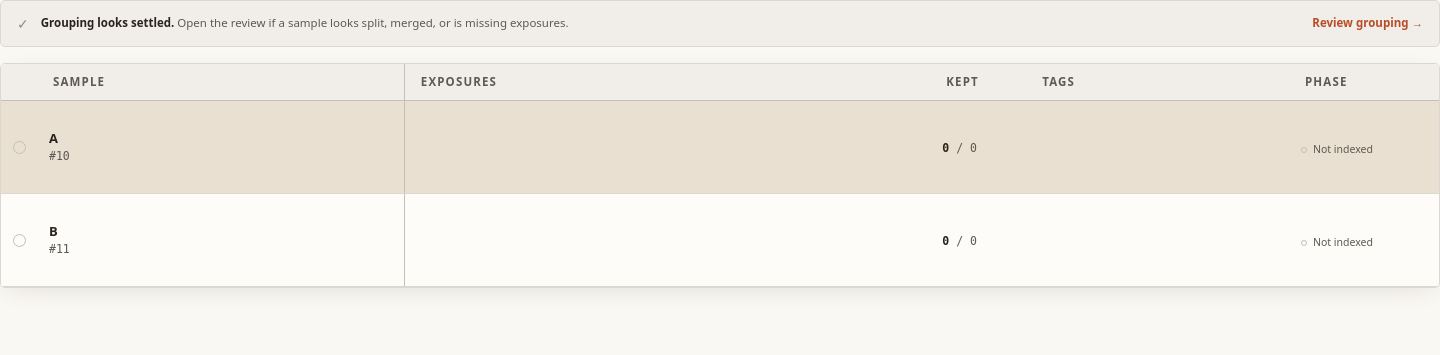
Test: ExperimentCorpusPage — sample-grain picker (dock compose segment) › Clear resets the sample selection and removes the compose segment
Click the checkbox named "Select sample" next to "#10" at (19, 147), box [12,141,26,154]
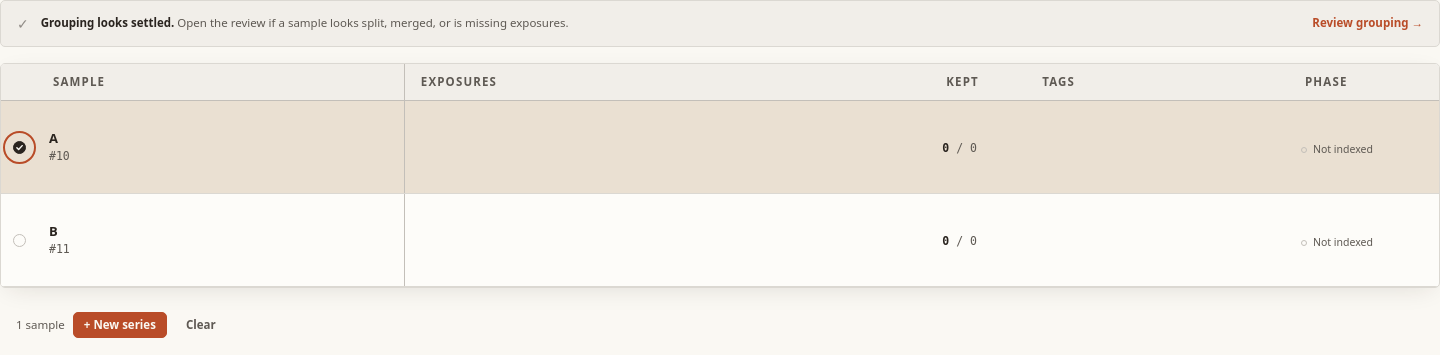
Click the button "Clear" at (201, 325), box [175,312,227,338]
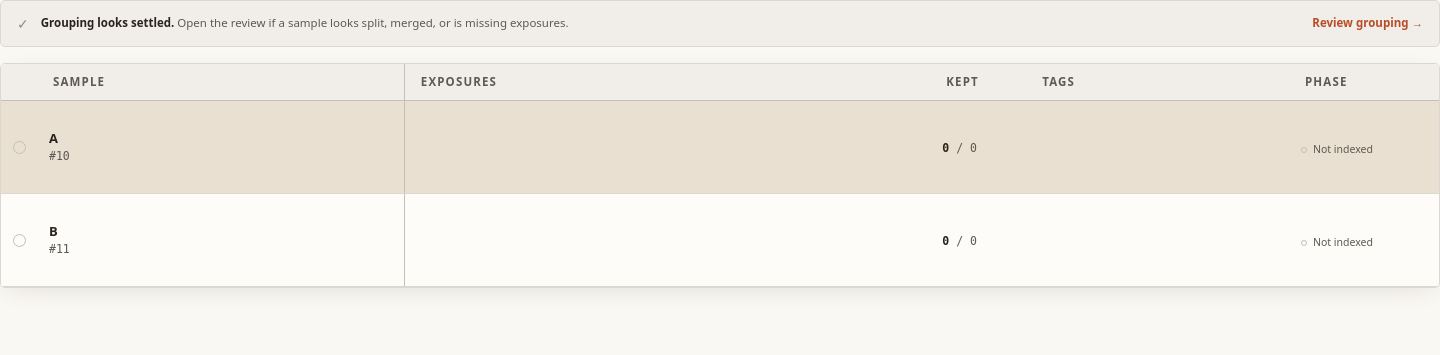
Check: the element with test id "dock-compose" is gone
